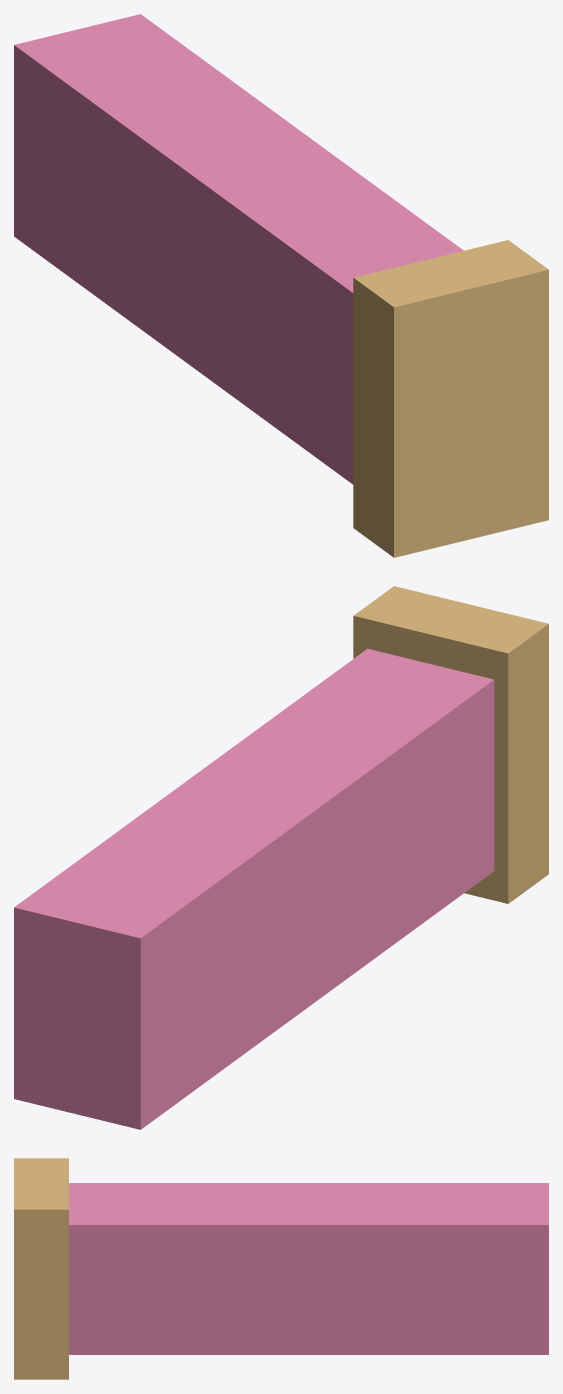
File: LightStock.obj
The picture shows the model from 3 angles, top to bottom: view 1: azimuth 30°, elevation 25°; view 2: azimuth 150°, elevation 25°; view 3: azimuth 270°, elevation 25°; orthographic projection. The views are drawn at different scales.
Visible parts, largest first — view 1: LightStock_Body, LightStock_Detail; view 2: LightStock_Body, LightStock_Detail; view 3: LightStock_Body, LightStock_Detail.
Boxes of the visible parts, <box> form: LightStock_Body: <box>14,14,463,484</box>; LightStock_Detail: <box>353,240,548,557</box>; LightStock_Body: <box>14,648,494,1129</box>; LightStock_Detail: <box>353,586,548,903</box>; LightStock_Body: <box>69,1183,548,1354</box>; LightStock_Detail: <box>14,1158,68,1379</box>.
Size of the model in its own units: 0.11 by 0.17 by 0.485.
